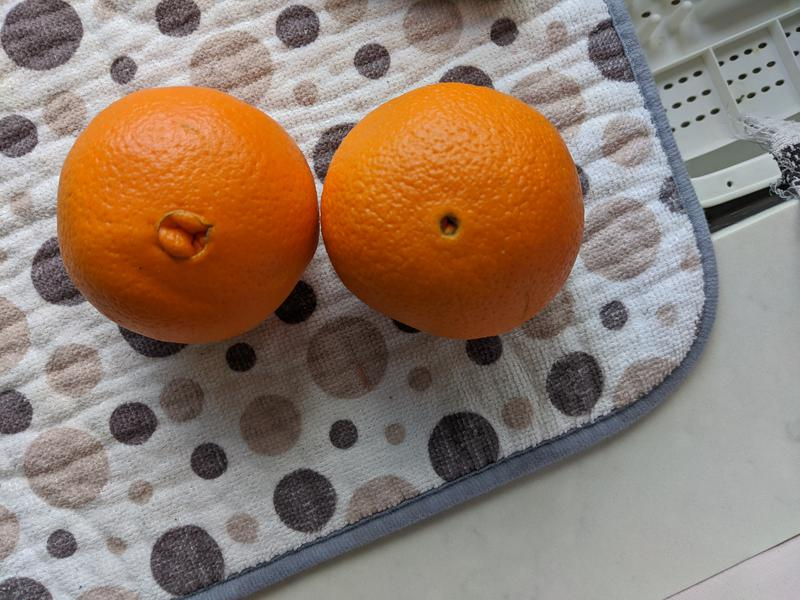orange: (56, 85, 320, 346), (320, 82, 586, 340)
